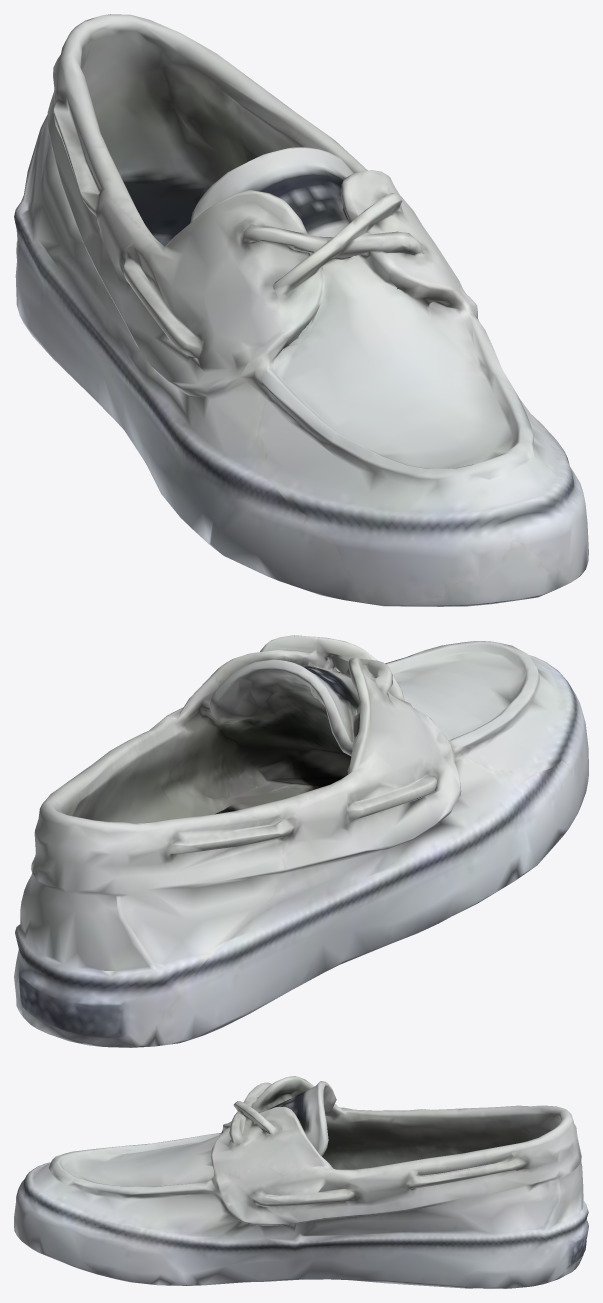
File: Womens_Canvas_Bahama_in_White_4UyOhP6rYGO-high.glb
The picture shows the model from 3 angles, top to bottom: view 1: azimuth 30°, elevation 25°; view 2: azimuth 150°, elevation 25°; view 3: azimuth 270°, elevation 25°; orthographic projection. The views are drawn at different scales.
Visible parts, largest first — view 1: Womens_Canvas_Bahama_in_White_4UyOhP6rYGO; view 2: Womens_Canvas_Bahama_in_White_4UyOhP6rYGO; view 3: Womens_Canvas_Bahama_in_White_4UyOhP6rYGO.
Boxes of the visible parts, x1=… form: Womens_Canvas_Bahama_in_White_4UyOhP6rYGO: x1=14, y1=14, x2=588, y2=606; Womens_Canvas_Bahama_in_White_4UyOhP6rYGO: x1=14, y1=635, x2=588, y2=1047; Womens_Canvas_Bahama_in_White_4UyOhP6rYGO: x1=14, y1=1076, x2=588, y2=1288.
Bounding box in the file's own units: 0.09 × 0.08 × 0.2447.
1 material, 1 textured.
